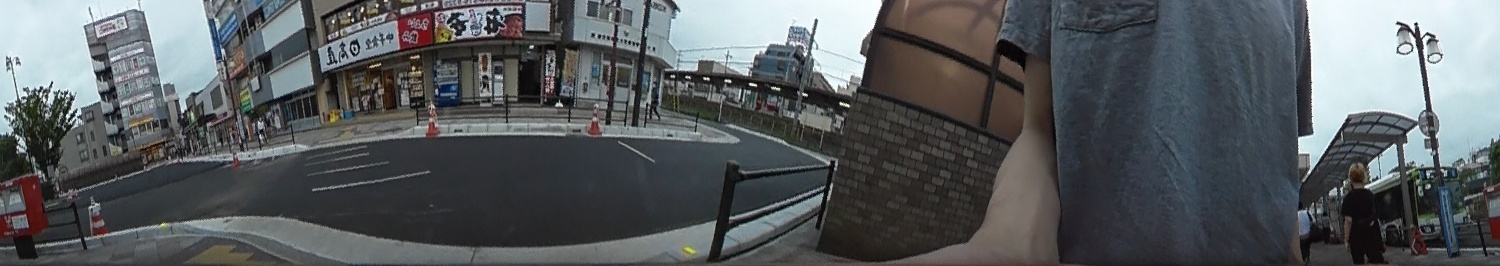difficult_person: (648, 80, 661, 118)
person: (1344, 161, 1391, 265), (1295, 199, 1316, 254)
